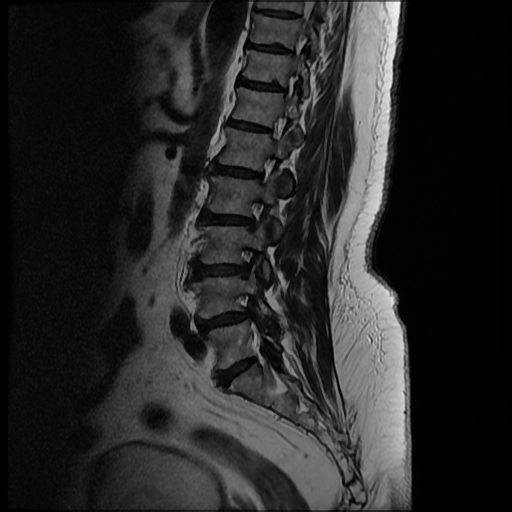LFS0: (248, 151, 283, 191)
LFS2: (234, 190, 268, 236)
LFS3: (230, 238, 263, 283)
